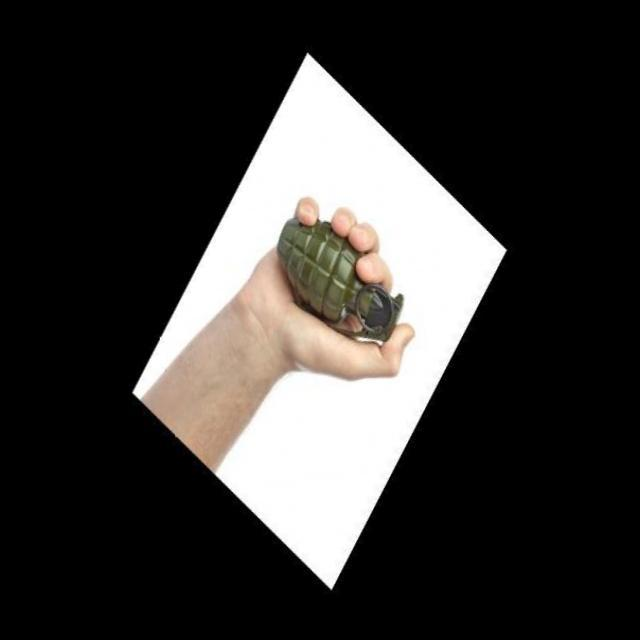grenade: (272, 197, 409, 349)
